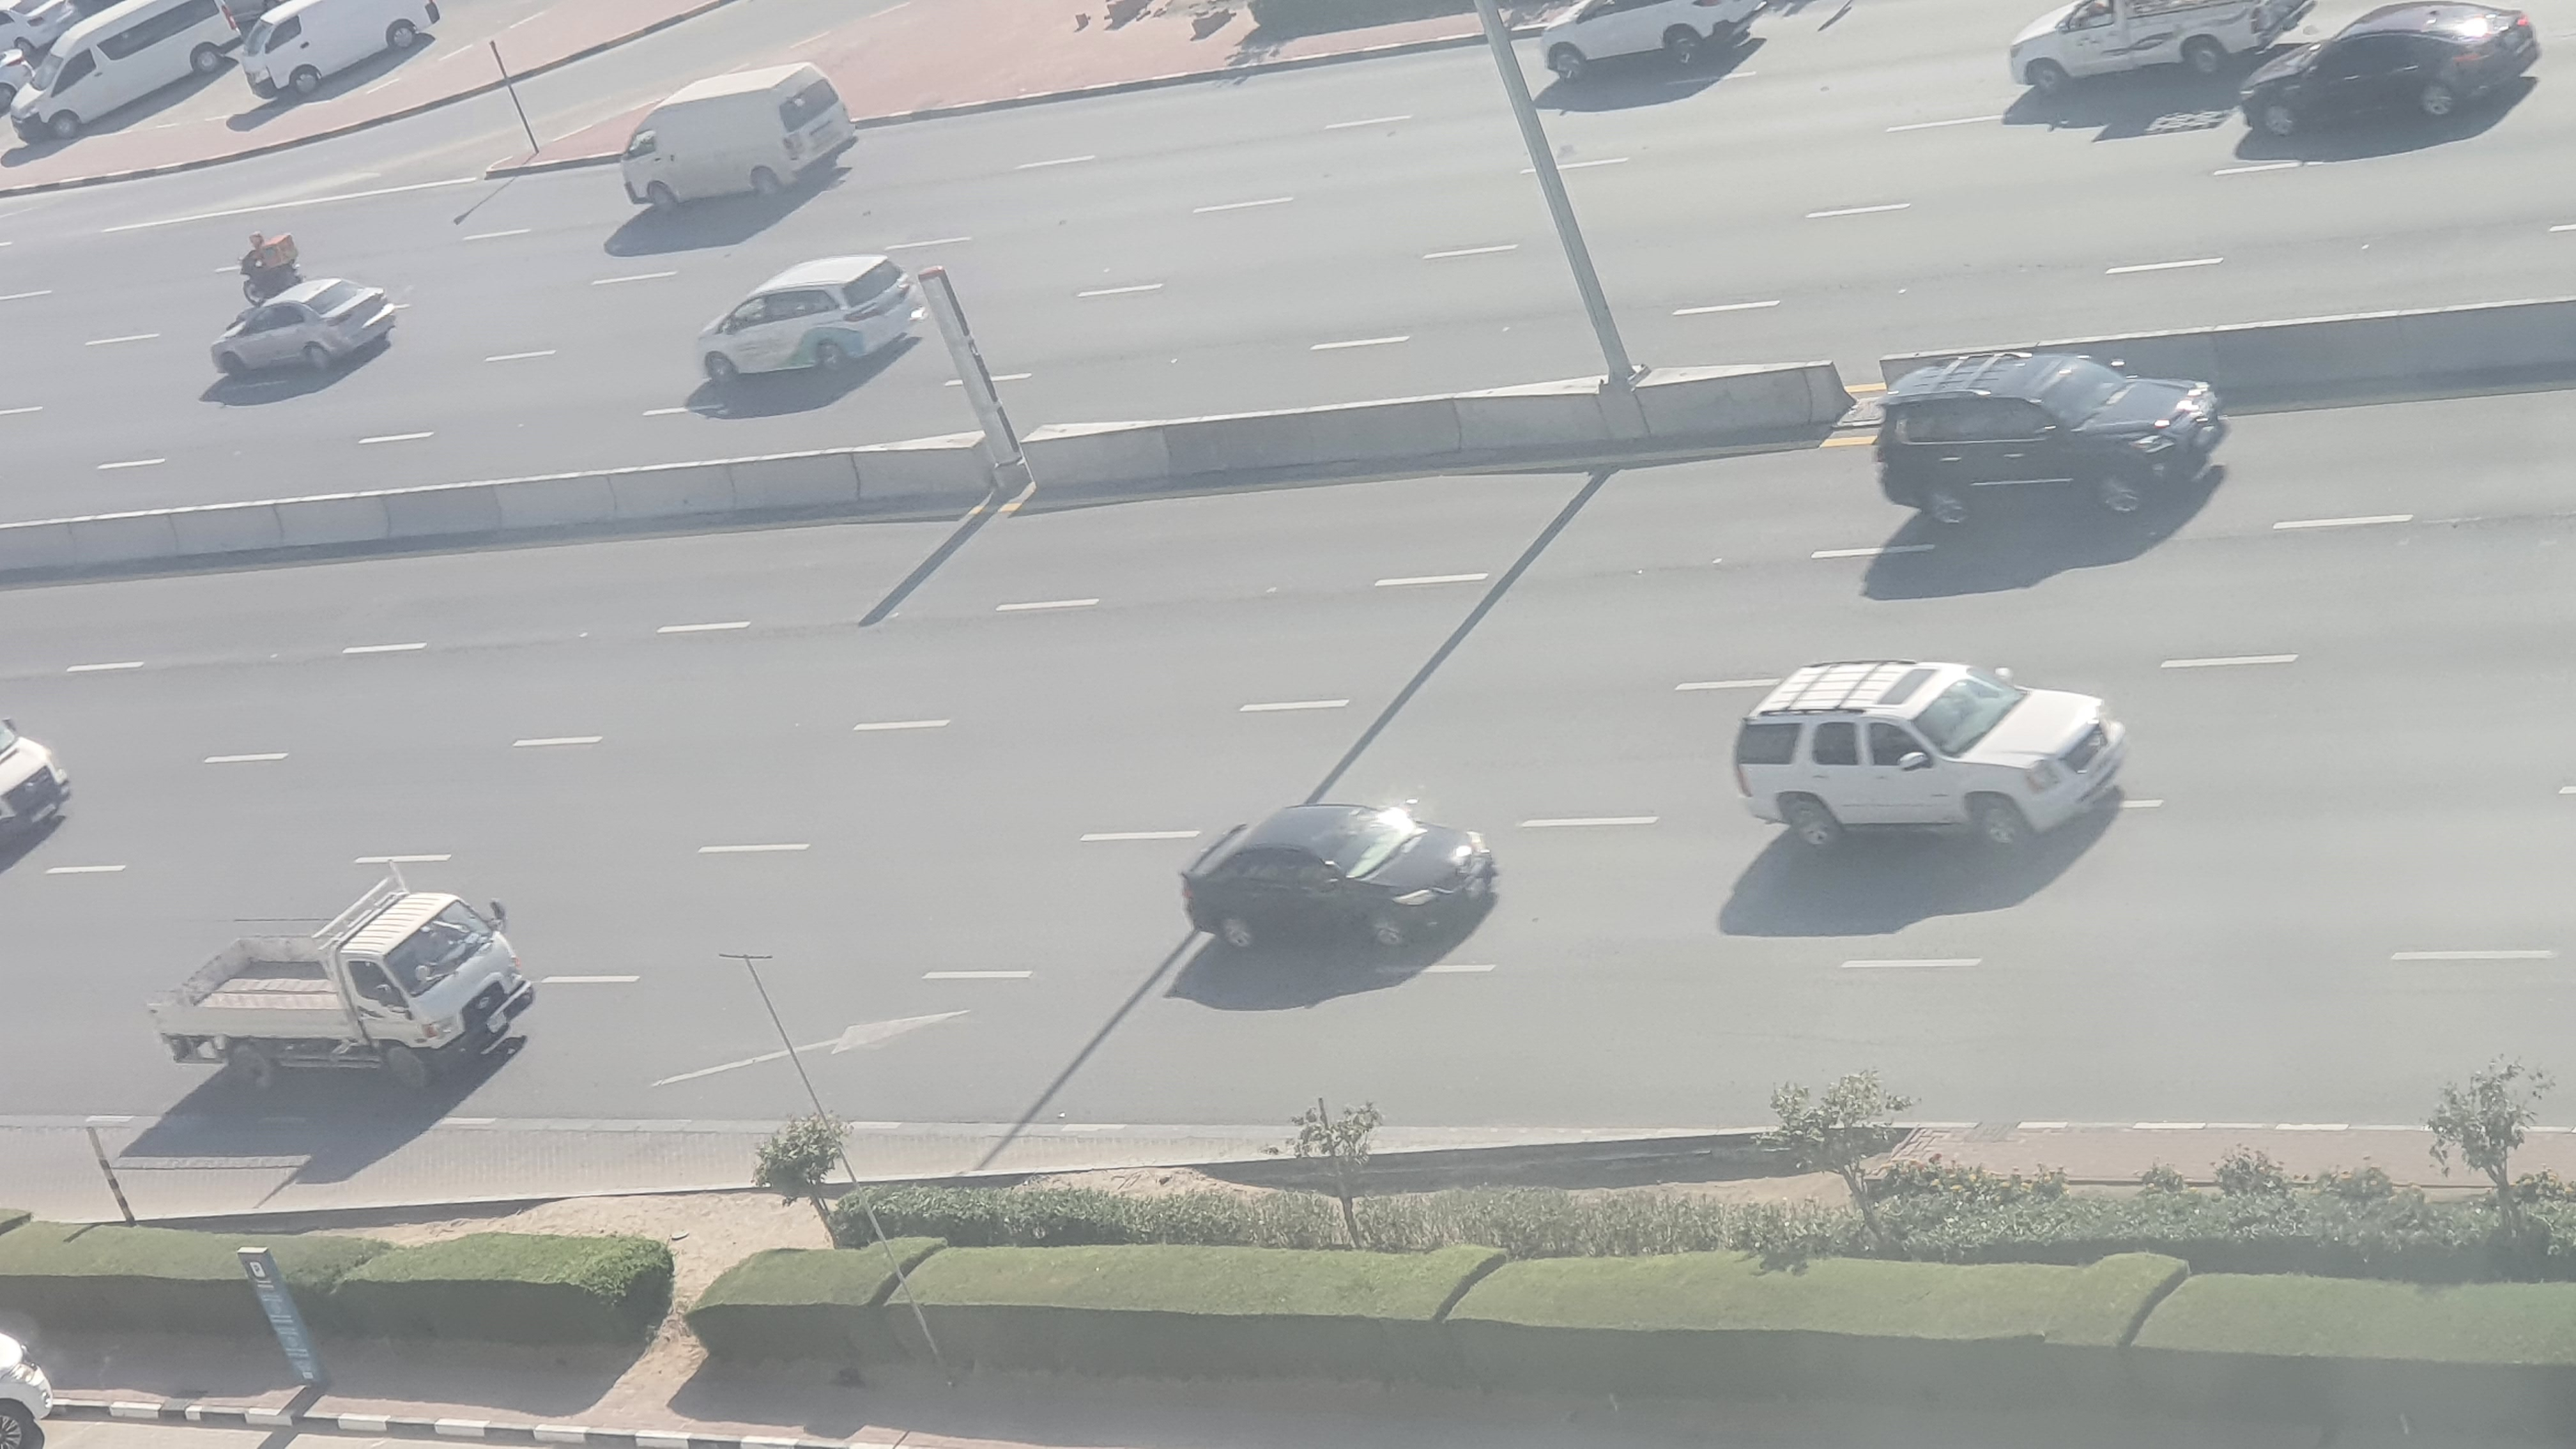NotSunroof: (1180, 798, 1509, 955)
Sunroof: (1734, 656, 2143, 858), (1877, 356, 2231, 524)
